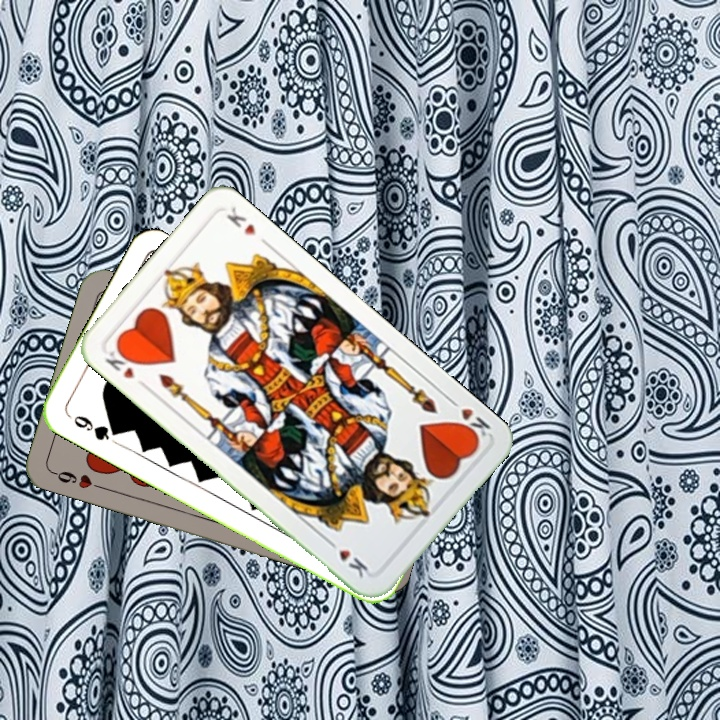G9: (64, 410, 122, 443)
H9: (48, 467, 106, 492)
HK: (444, 393, 494, 445), (101, 343, 140, 382)
